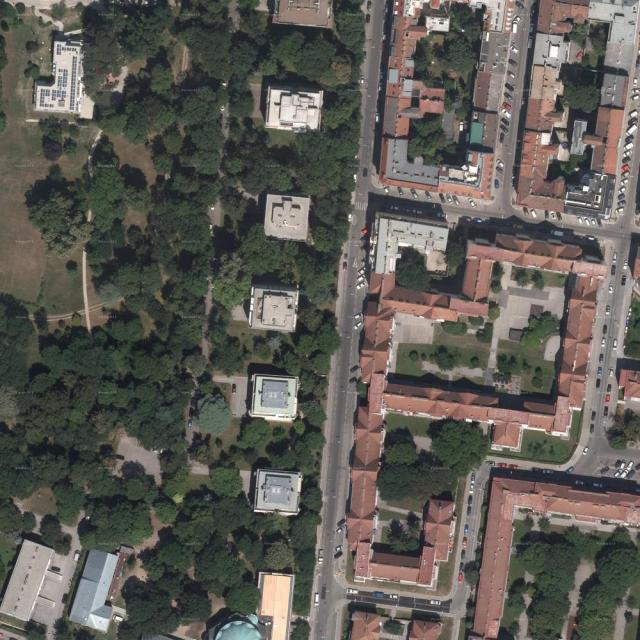building: (454, 217, 608, 302), (380, 375, 574, 438), (516, 32, 571, 211), (343, 372, 391, 552), (377, 135, 496, 200), (557, 274, 600, 408), (68, 547, 129, 632), (379, 284, 490, 330), (373, 216, 450, 278), (34, 34, 86, 114), (356, 300, 397, 383), (265, 86, 323, 133), (603, 0, 640, 71), (563, 170, 616, 219), (262, 194, 311, 242), (254, 469, 303, 517), (248, 286, 299, 332), (422, 498, 455, 561), (367, 551, 422, 586), (477, 29, 513, 77), (273, 0, 331, 27), (460, 256, 494, 302), (524, 97, 565, 135), (532, 32, 570, 69), (472, 70, 504, 113), (593, 106, 624, 148), (530, 63, 564, 101), (468, 110, 500, 148), (557, 372, 587, 409), (600, 72, 629, 109), (491, 421, 523, 452), (349, 610, 382, 640), (417, 544, 438, 587), (347, 517, 372, 550), (591, 146, 618, 175), (354, 541, 373, 582), (369, 273, 395, 300), (619, 369, 640, 401), (472, 93, 498, 111), (23, 575, 27, 583)
greenland: (0, 8, 83, 318), (405, 0, 486, 122), (488, 411, 594, 485), (374, 450, 462, 516), (489, 337, 562, 399), (426, 415, 492, 478), (542, 145, 602, 193), (512, 305, 563, 354), (438, 30, 484, 79), (407, 113, 449, 165), (559, 63, 601, 114), (395, 248, 431, 291), (581, 20, 611, 70), (428, 338, 466, 376), (260, 537, 298, 574), (448, 2, 483, 42), (0, 499, 36, 537), (414, 37, 436, 80), (527, 309, 560, 336), (444, 239, 467, 277), (506, 577, 528, 616), (565, 17, 592, 48), (385, 442, 418, 465), (506, 553, 527, 589), (398, 347, 422, 376), (512, 519, 532, 546), (490, 261, 506, 294), (475, 320, 494, 344), (496, 354, 518, 374), (624, 615, 640, 639), (441, 321, 468, 334), (530, 269, 545, 291), (505, 619, 522, 638), (522, 359, 532, 373), (535, 366, 544, 376), (13, 144, 18, 149)
metalled_road: (613, 0, 640, 217), (450, 461, 492, 567), (345, 587, 451, 615), (575, 450, 640, 482), (486, 454, 560, 476)
